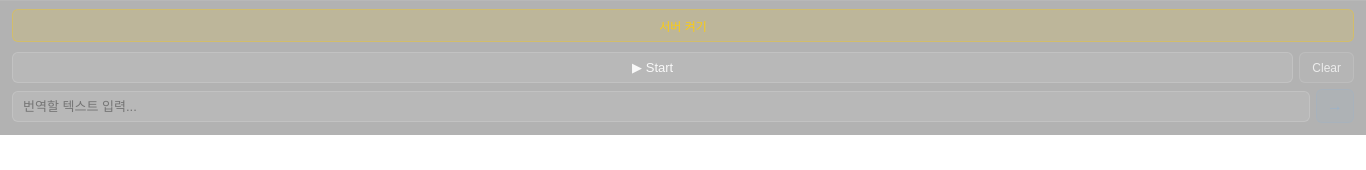
Test: when start_server fails › shows the error message and never polls
Click the button with test id "start-server-btn": (683, 26) 12,9 -> 1354,42
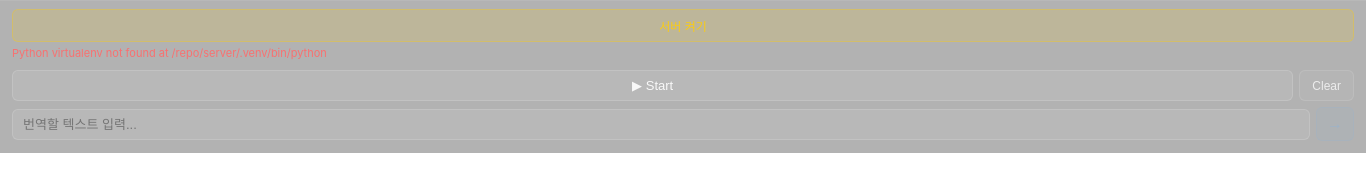
Now the text with test id "server-error" shows "/repo/server/.venv/bin/python", box 12,46 -> 327,60
